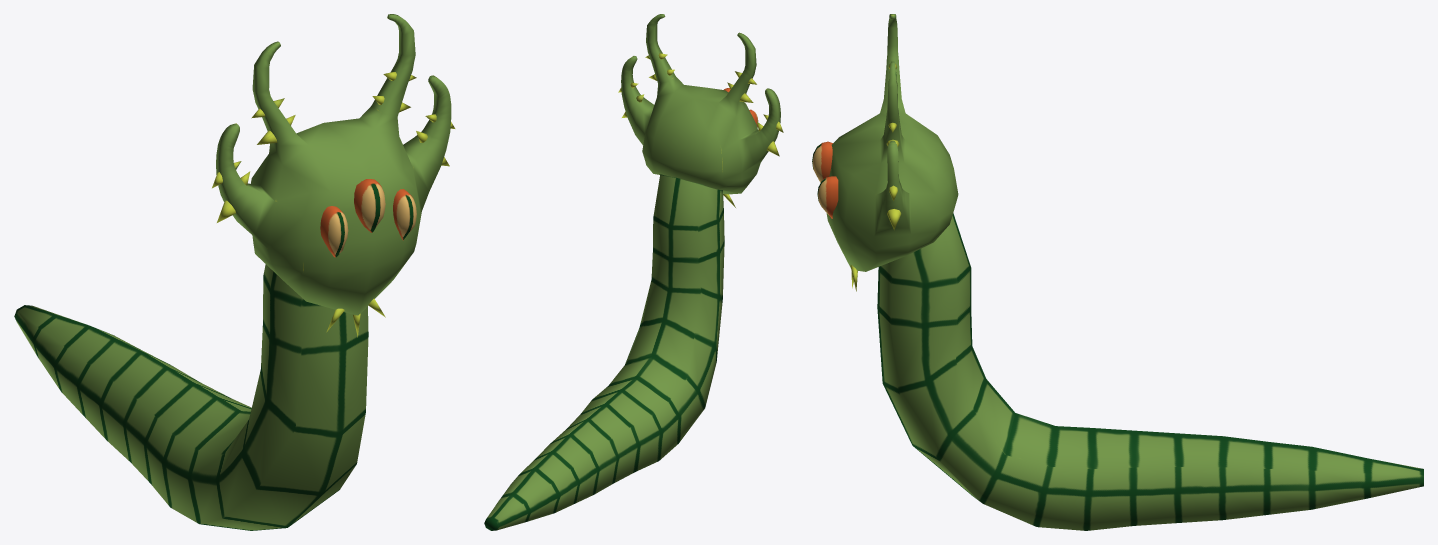
Rendered from Ulet.fbx.
3 views of the same model, side by side, from view 1: azimuth 30°, elevation 25°; view 2: azimuth 150°, elevation 25°; view 3: azimuth 270°, elevation 25° (orthographic). The views are drawn at different scales.
Visible parts, largest first — view 1: Cube.001; view 2: Cube.001; view 3: Cube.001.
Boxes of the visible parts, x1,y1,x2,y2 form: Cube.001: [14, 14, 455, 530]; Cube.001: [484, 14, 783, 530]; Cube.001: [812, 14, 1423, 530].
Bounding box in the file's own units: 108 × 241 × 274.
1 material, 1 textured.
